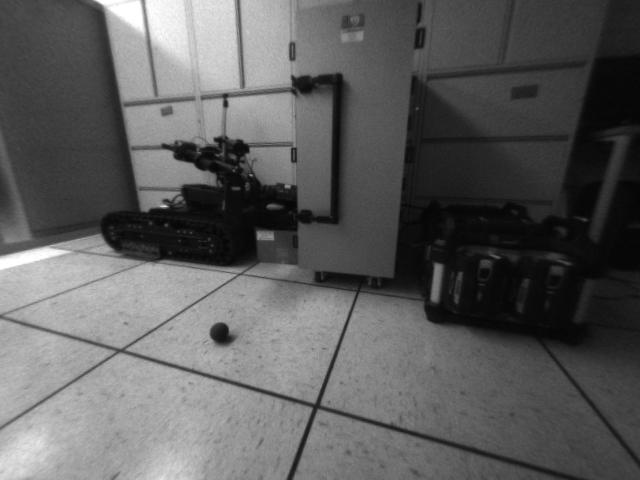dogtoy: (204, 318, 238, 350)
